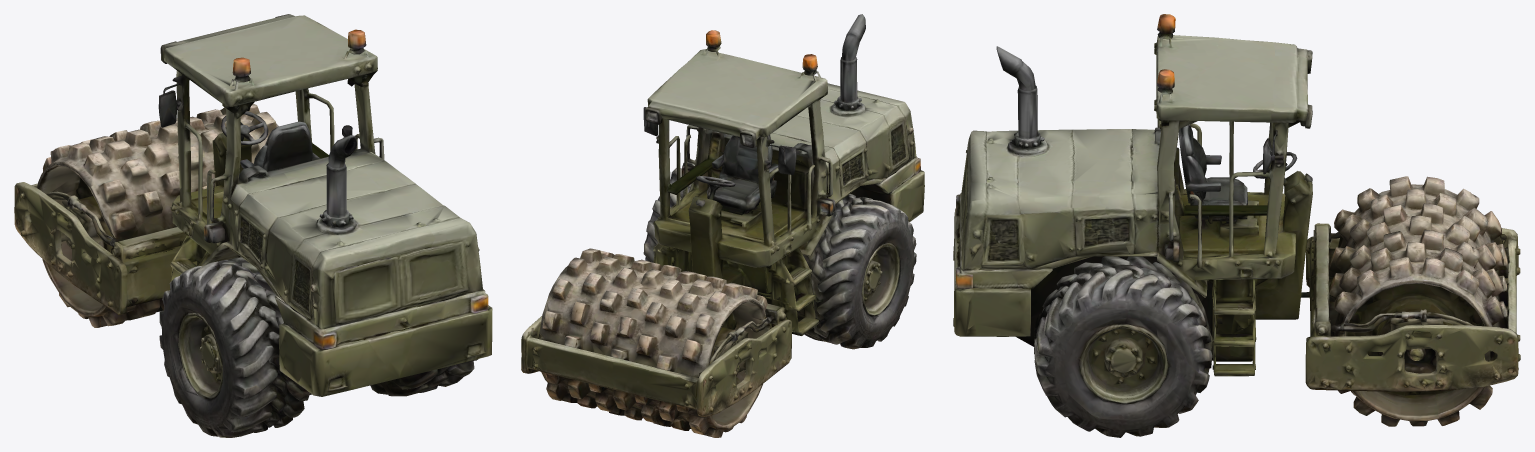
File: rolo-pe-de-carneiro_lod0.glb
3 views of the same model, side by side, from view 1: azimuth 30°, elevation 25°; view 2: azimuth 150°, elevation 25°; view 3: azimuth 270°, elevation 25° (orthographic). The views are drawn at different scales.
Parts seen in each view (by area): view 1: tripo_node_22e22fa0-f789-406a-8f82-fb1a0768946b; view 2: tripo_node_22e22fa0-f789-406a-8f82-fb1a0768946b; view 3: tripo_node_22e22fa0-f789-406a-8f82-fb1a0768946b.
Boxes of the visible parts, bbox=[...] form: tripo_node_22e22fa0-f789-406a-8f82-fb1a0768946b: bbox=[14, 14, 492, 437]; tripo_node_22e22fa0-f789-406a-8f82-fb1a0768946b: bbox=[521, 14, 924, 437]; tripo_node_22e22fa0-f789-406a-8f82-fb1a0768946b: bbox=[953, 14, 1520, 437].
Bounding box in the file's own units: 2.97 × 3.91 × 5.9.
Materials: 1 (1 with a texture image).
